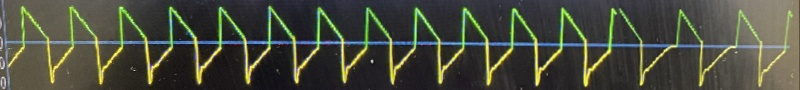peepi: (0, 0, 800, 90)
